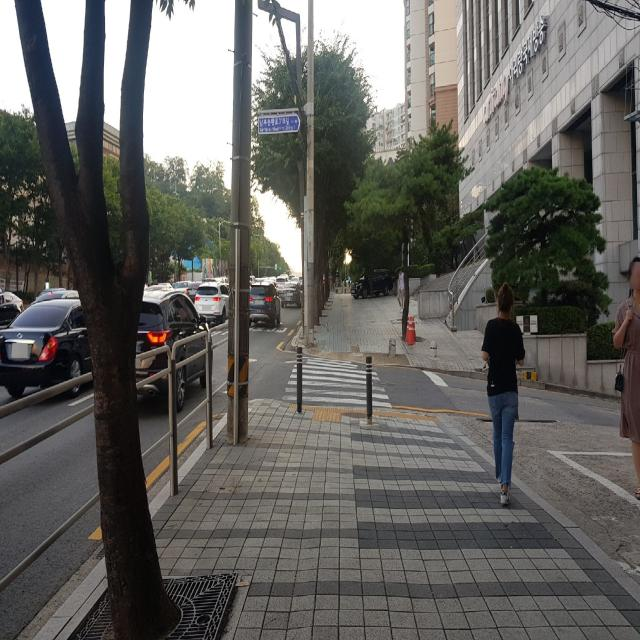횡단보도: (282, 356, 393, 409)
